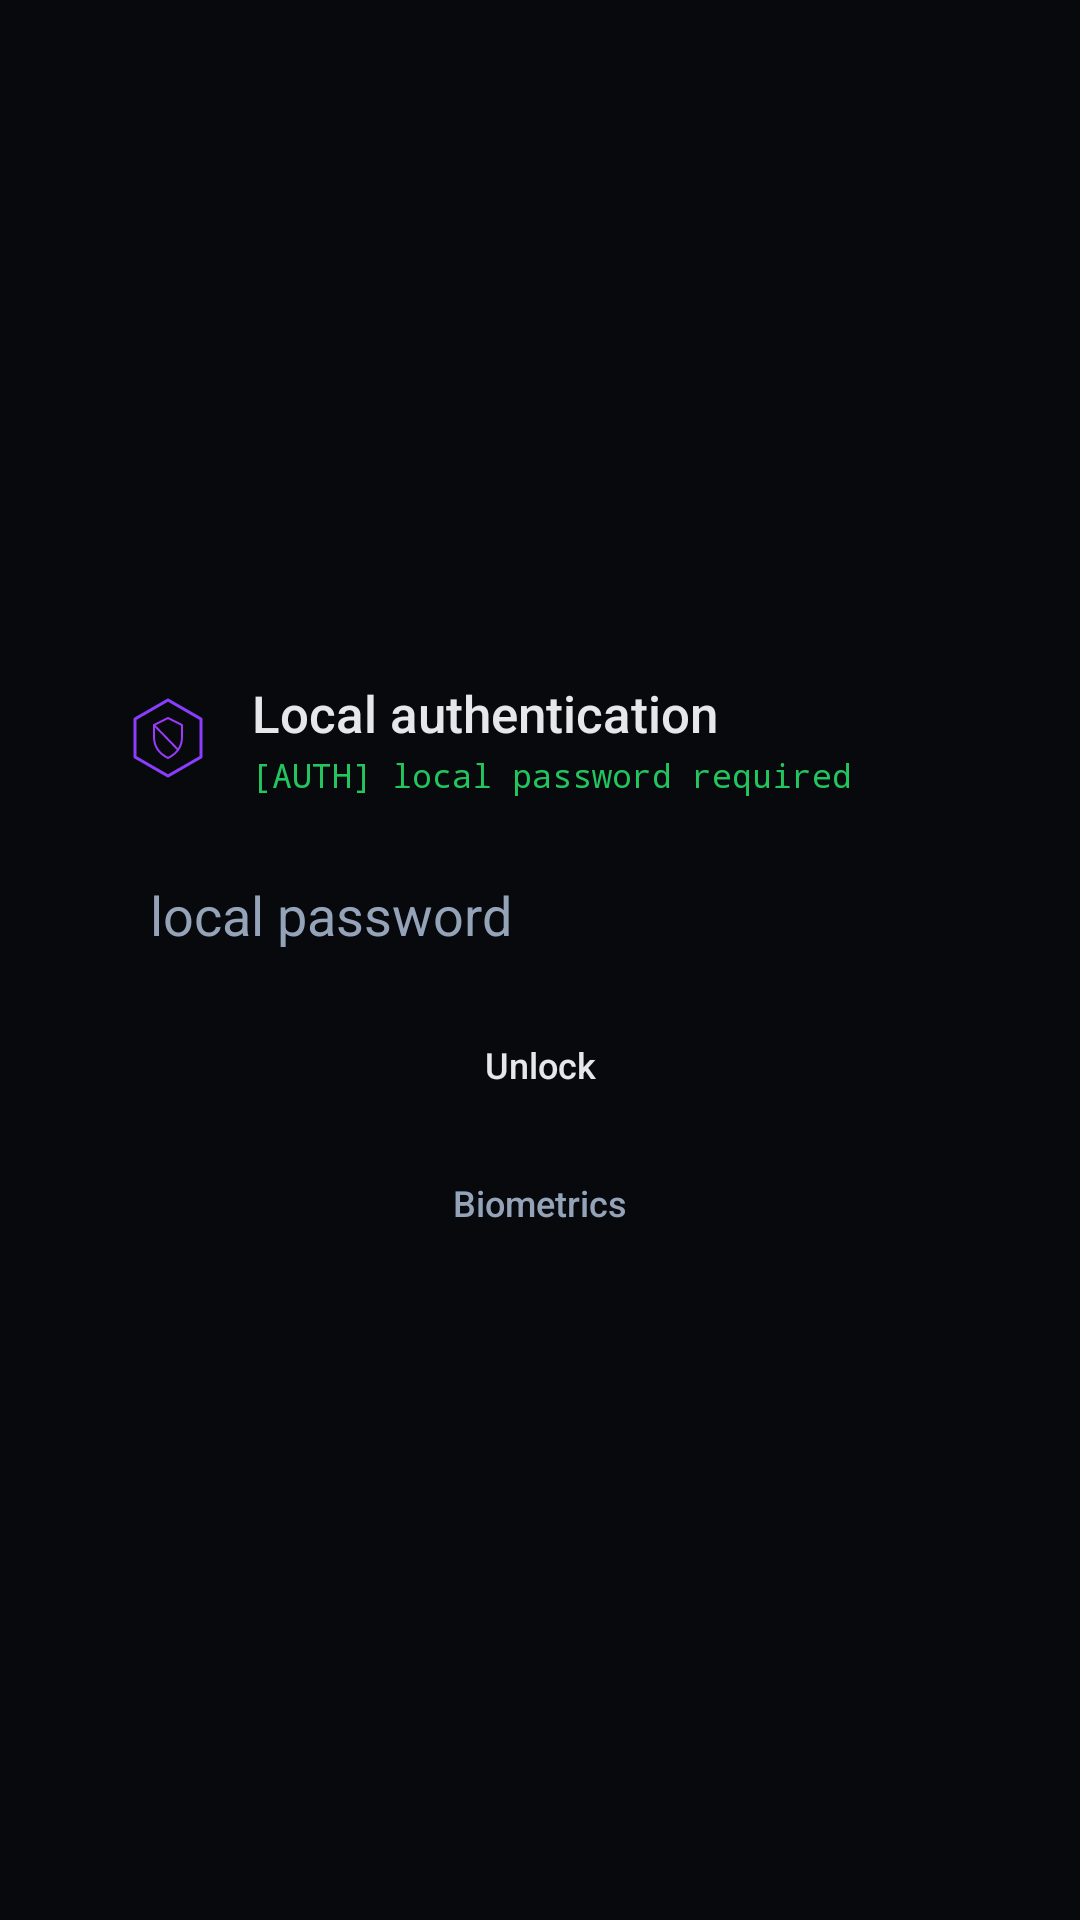

Where to tap for icons on this 1080 x 1920 app screen, as point (x, y):
PSBlock locked: point (168, 738)
